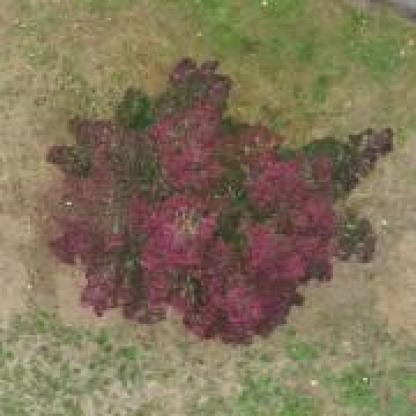Deciduous Tree: (31, 55, 406, 334)
